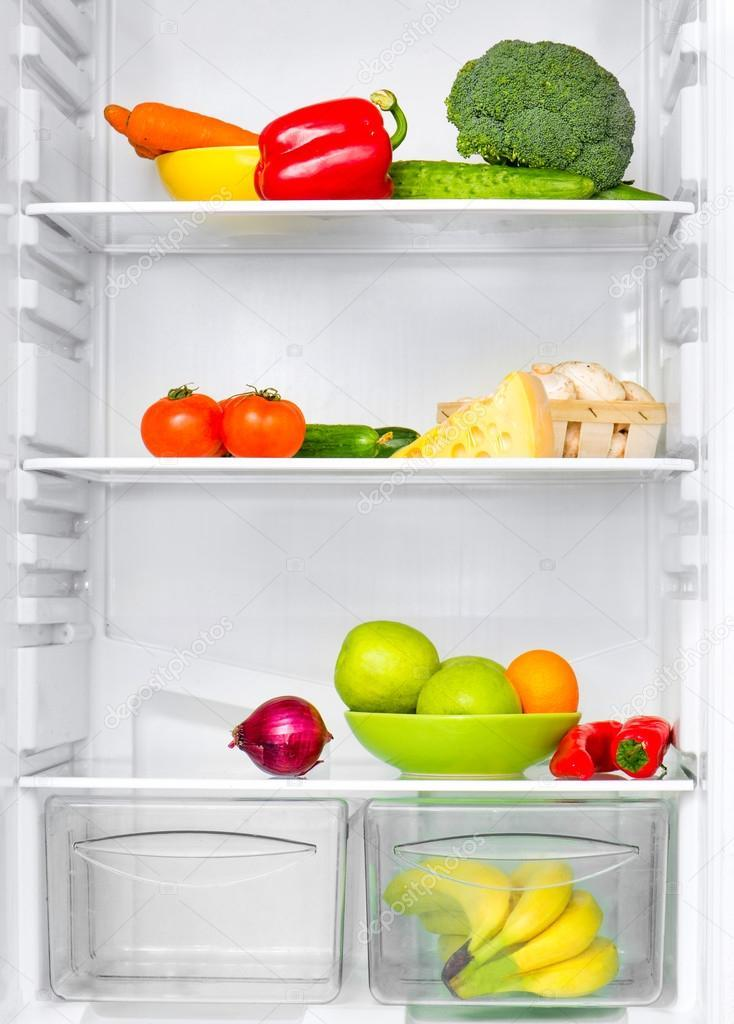banana: (376, 804, 633, 1022)
bell pepper: (264, 102, 451, 217)
brocolli: (462, 44, 734, 205)
onion: (228, 696, 371, 781)
tomato: (104, 346, 355, 494)
